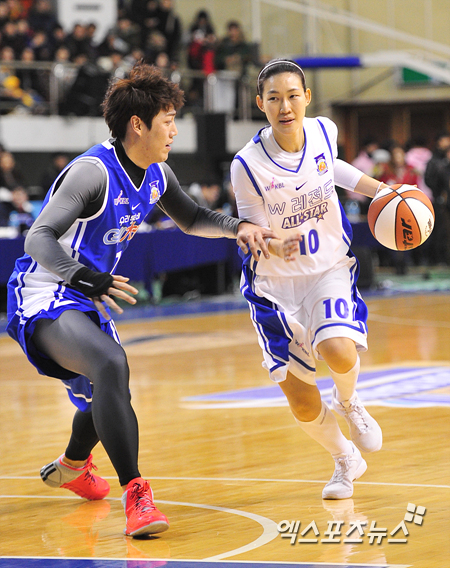breakthrough: (226, 45, 439, 504), (359, 180, 439, 258)
defense: (11, 65, 215, 544)
